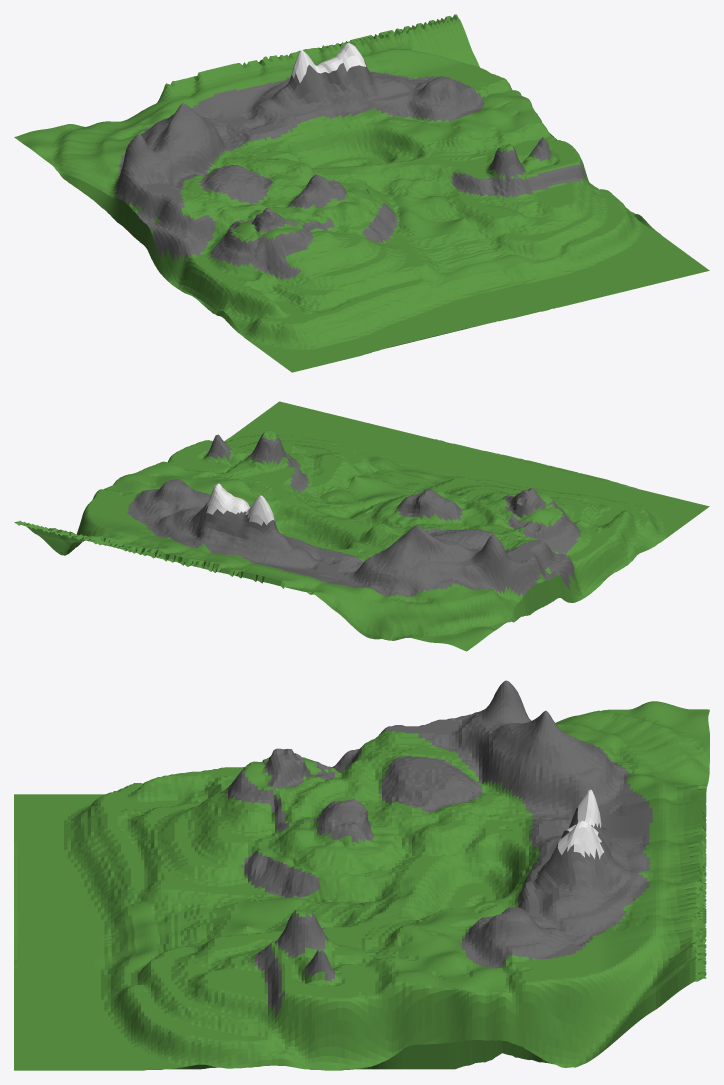
The model's file is mountain5.fbx.
3 renders of one model, top to bottom at view 1: azimuth 30°, elevation 25°; view 2: azimuth 150°, elevation 25°; view 3: azimuth 270°, elevation 25°, orthographic. The views are drawn at different scales.
Parts seen in each view (by area): view 1: Cube; view 2: Cube; view 3: Cube.
Boxes of the visible parts, <box> form: Cube: <box>14,14,709,372</box>; Cube: <box>14,401,709,651</box>; Cube: <box>14,680,709,1070</box>.
Bounding box in the file's own units: 57649 × 13970 × 57711.
